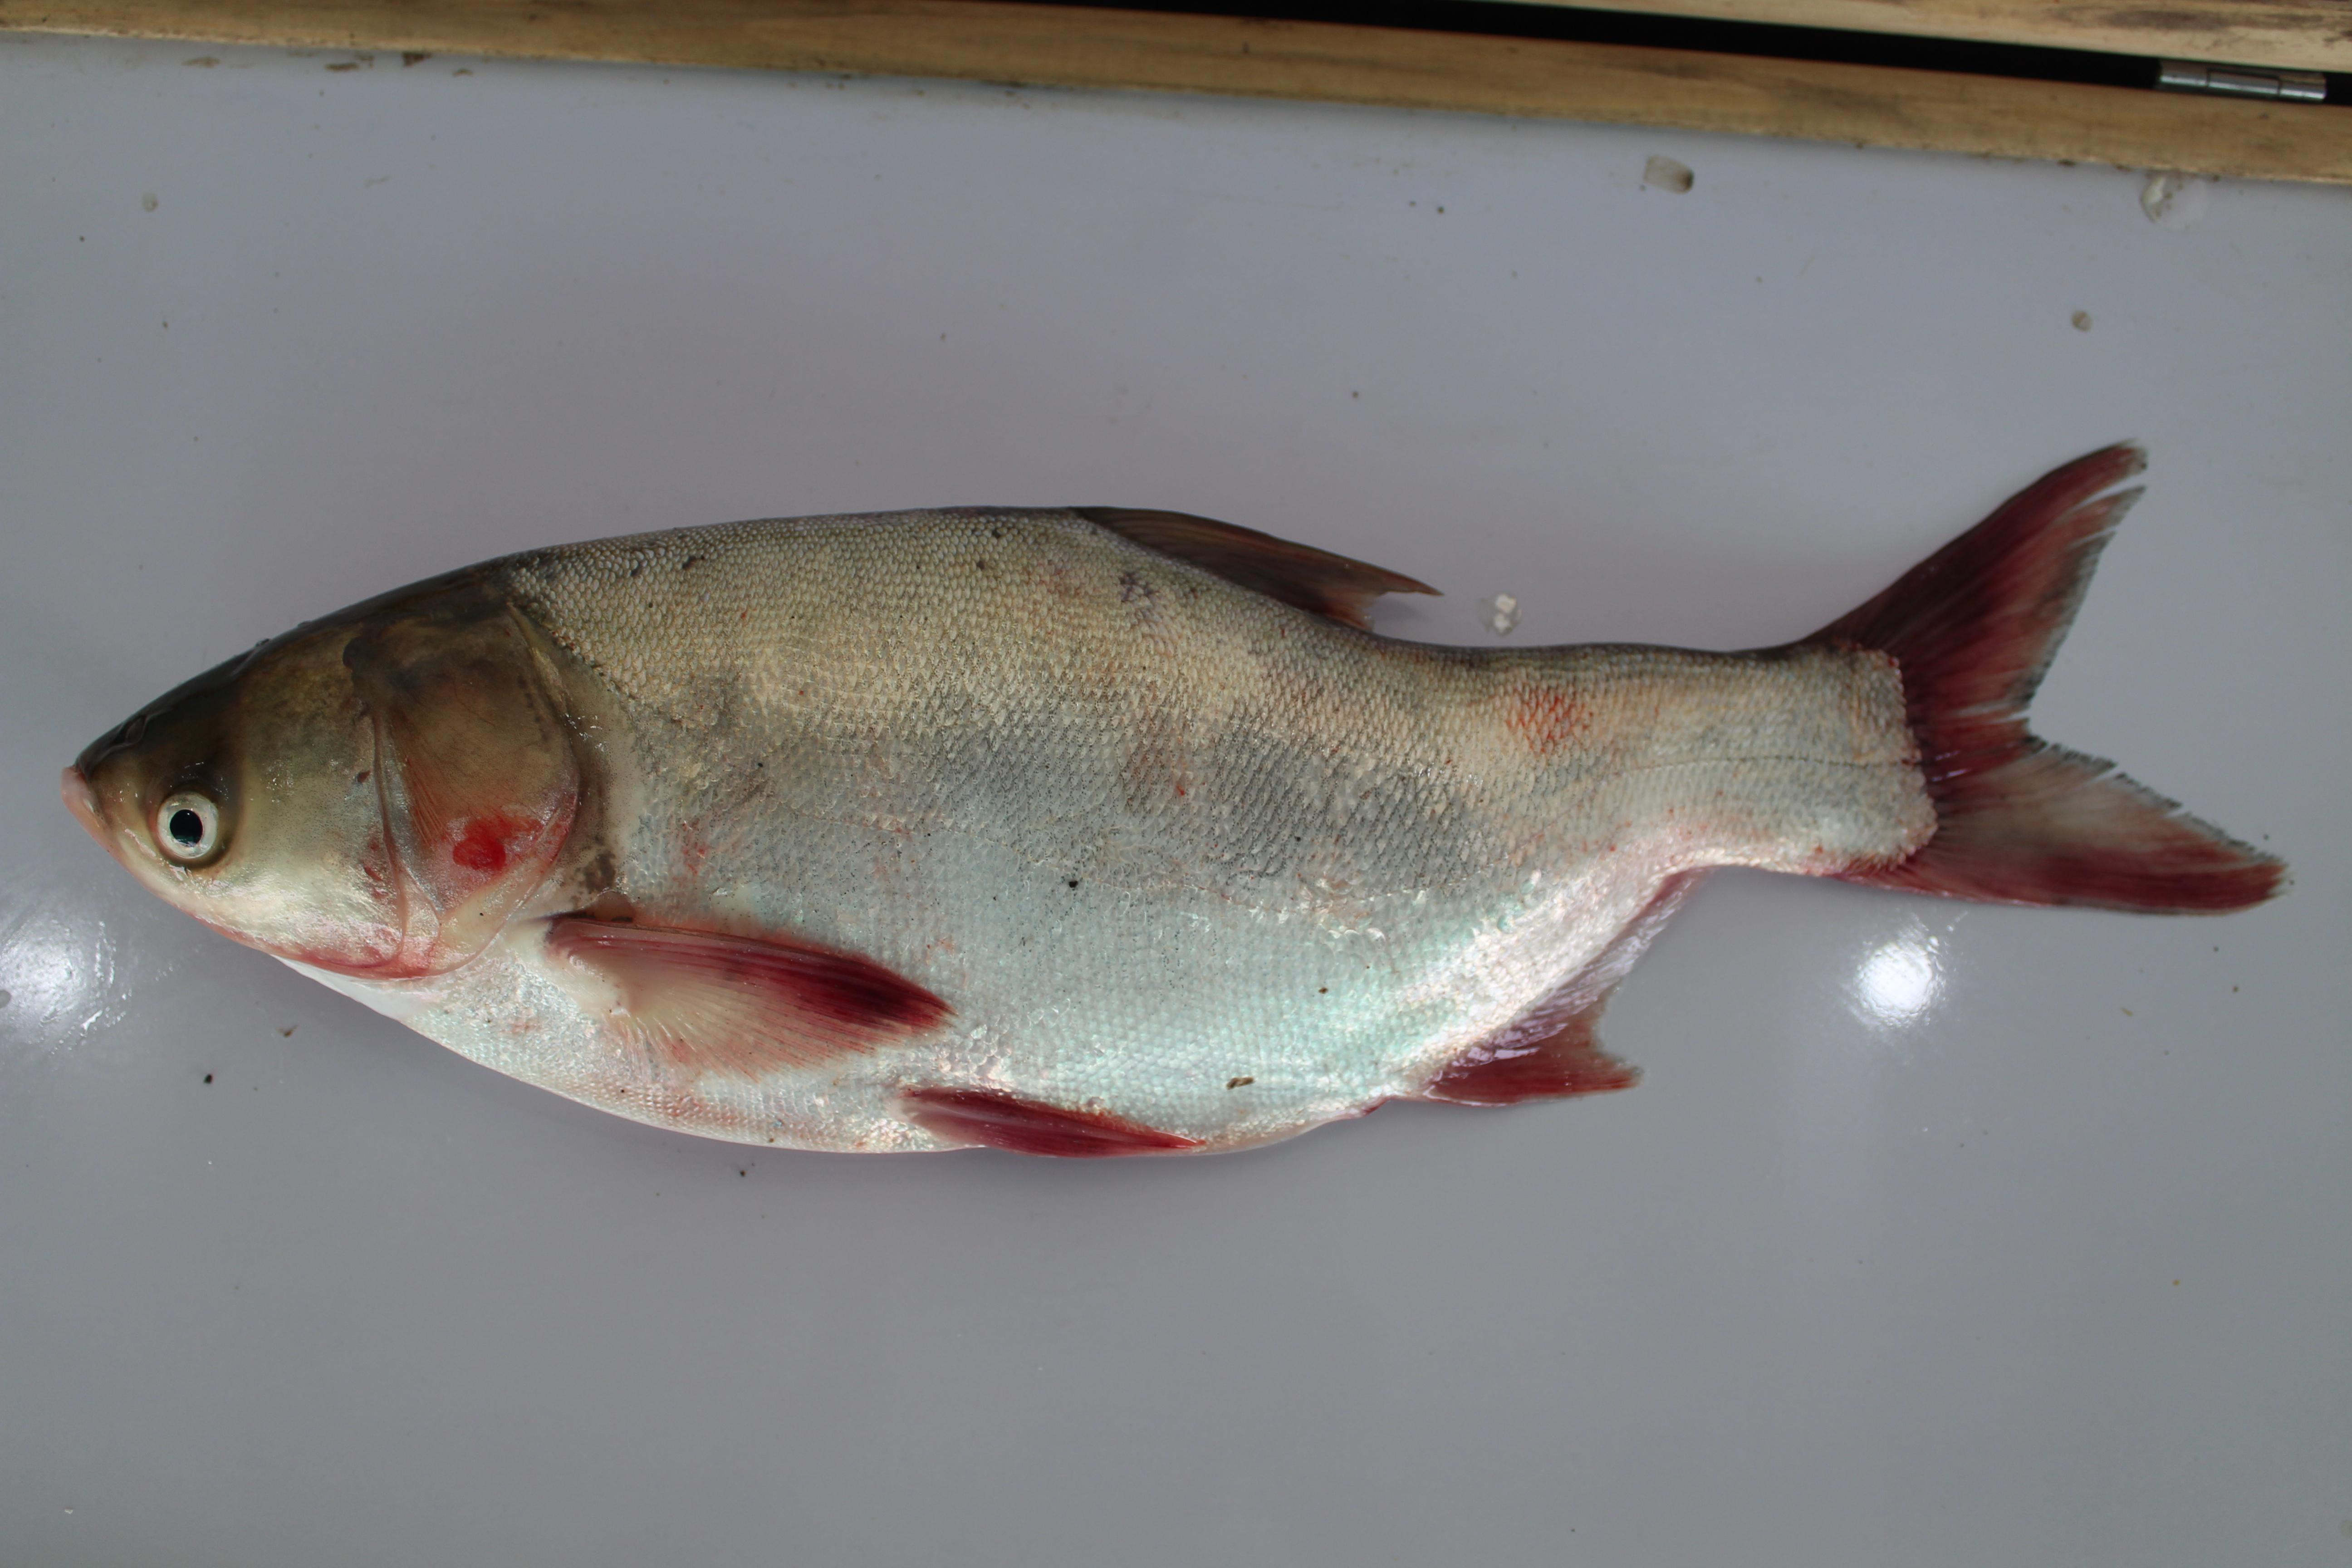Silver Carp: (65, 431, 2264, 1153)
